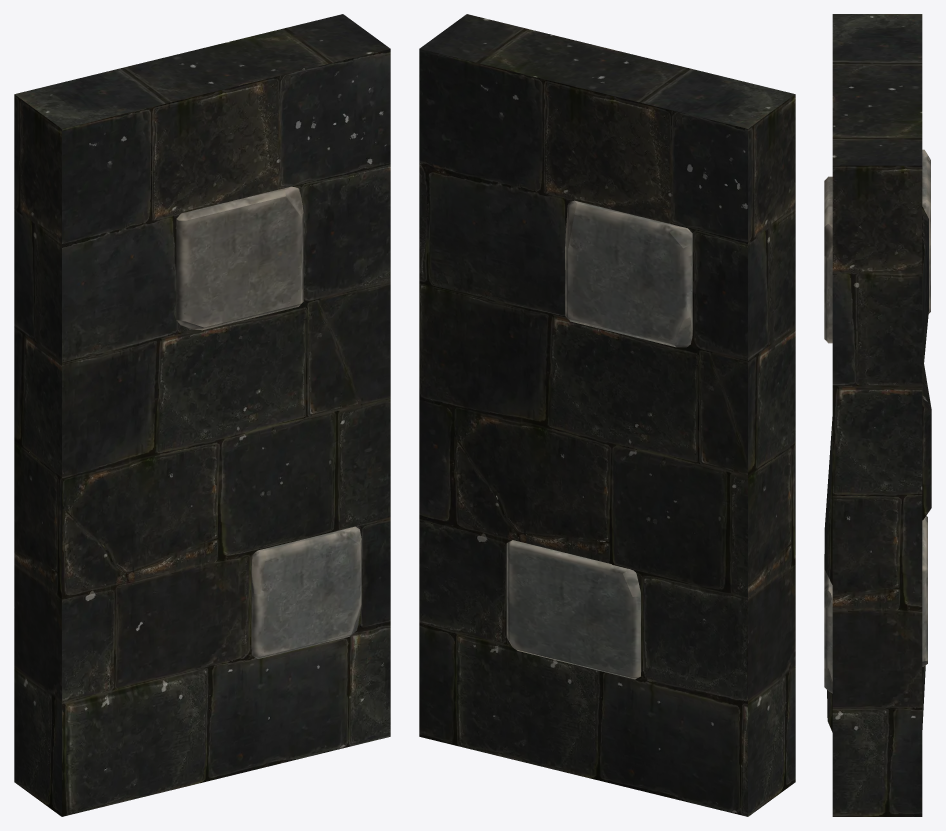
3 renders of one model, left to right at view 1: azimuth 30°, elevation 25°; view 2: azimuth 150°, elevation 25°; view 3: azimuth 270°, elevation 25°, orthographic. The views are drawn at different scales.
Parts seen in each view (by area): view 1: SM_DeathTemple_Wall_2x4_01_v1_LOD0; view 2: SM_DeathTemple_Wall_2x4_01_v1_LOD0; view 3: SM_DeathTemple_Wall_2x4_01_v1_LOD0.
Boxes of the visible parts, x1=… form: SM_DeathTemple_Wall_2x4_01_v1_LOD0: x1=14, y1=14, x2=390, y2=816; SM_DeathTemple_Wall_2x4_01_v1_LOD0: x1=419, y1=14, x2=795, y2=816; SM_DeathTemple_Wall_2x4_01_v1_LOD0: x1=824, y1=14, x2=931, y2=816.
Bounding box in the file's own units: 2 × 4 × 0.597.
Materials: 2 (2 with a texture image).
